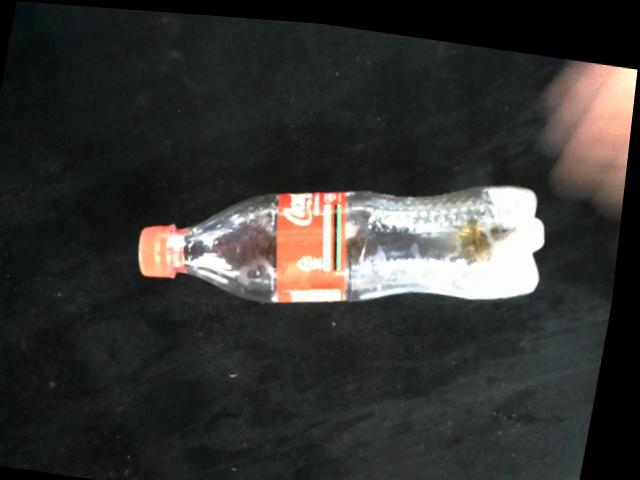bottle: (142, 175, 550, 298)
